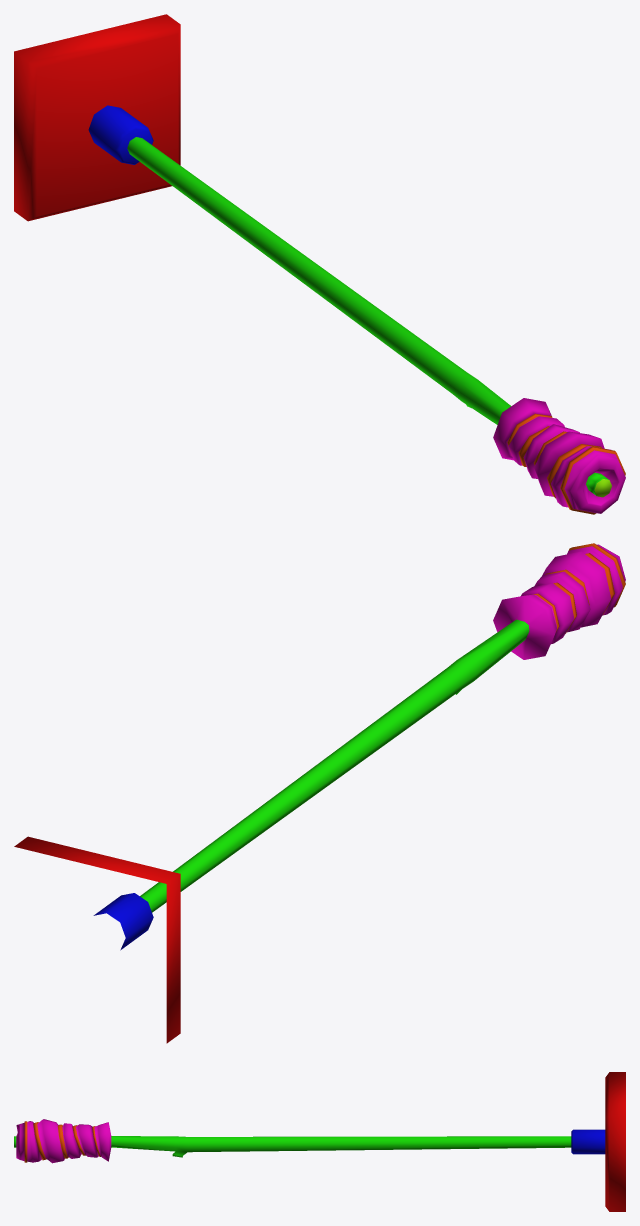
Rendered from Torch_standing.gltf.
The picture shows the model from 3 angles, top to bottom: view 1: azimuth 30°, elevation 25°; view 2: azimuth 150°, elevation 25°; view 3: azimuth 270°, elevation 25°; orthographic projection. The views are drawn at different scales.
Parts seen in each view (by area): view 1: Platform; view 2: Platform; view 3: Platform.
Part boxes in pixels (x1,y1,x2,y2): Platform: (14, 14, 625, 514); Platform: (14, 543, 625, 1043); Platform: (14, 1072, 625, 1211).
Size of the model in its own units: 24 by 24 by 140.
